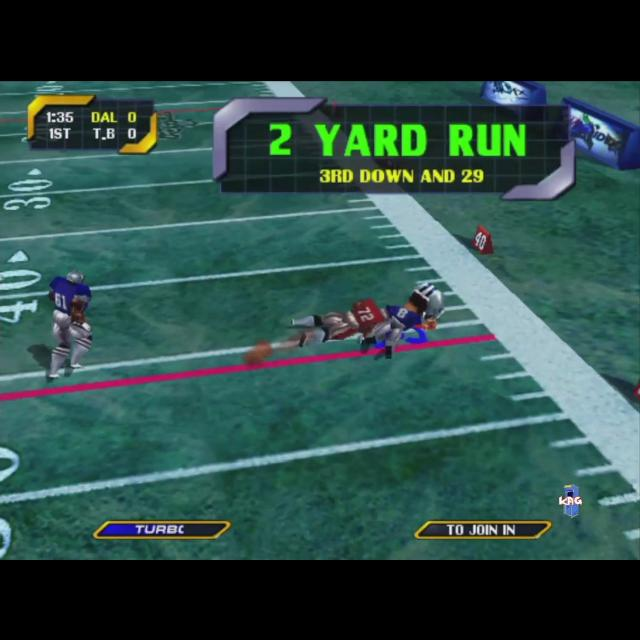player: (366, 282, 446, 356), (42, 269, 94, 379), (290, 297, 388, 345)
